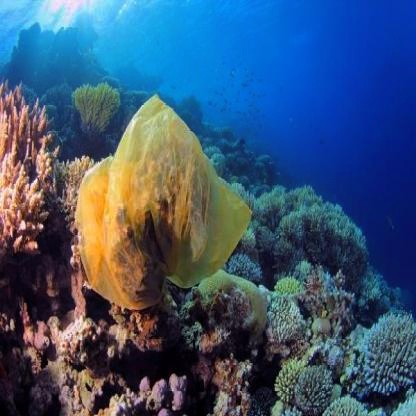pbag: (66, 87, 255, 314)
